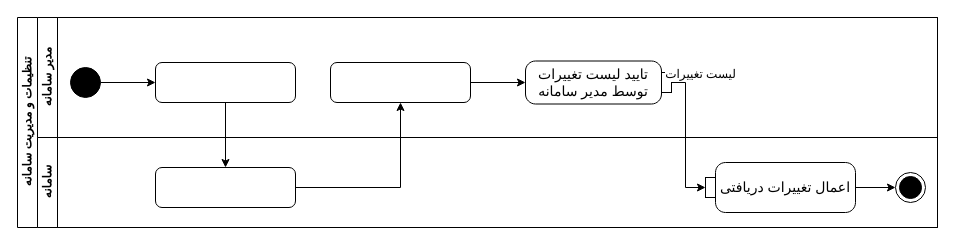
Image size: 955x245. Some labels were removed from this diagram. The shapes that lost their labels are listed below. From the top down, each one's centre as x and y in pixels, then its label:
At (x=225, y=82): "درخواست تغییر تغییر ساختار اداری".
At (x=400, y=82): "ورود لیست تغییرات".
At (x=225, y=187): "درخواست لیست تغییرات".
